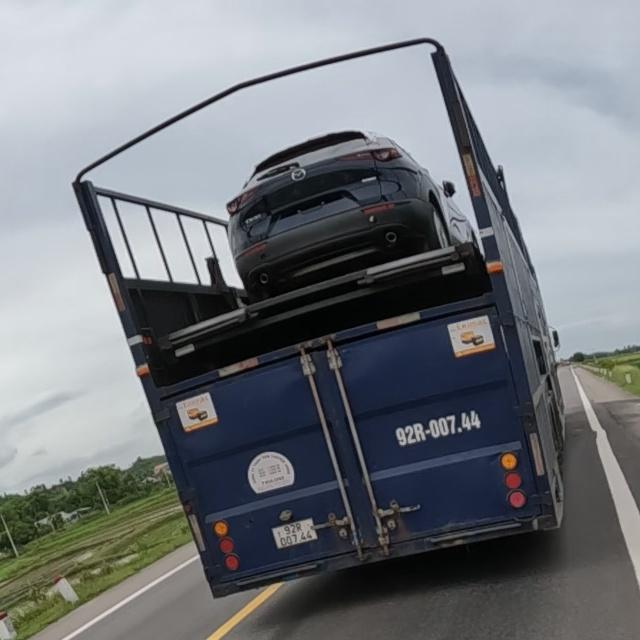license-plate: (271, 517, 317, 549)
